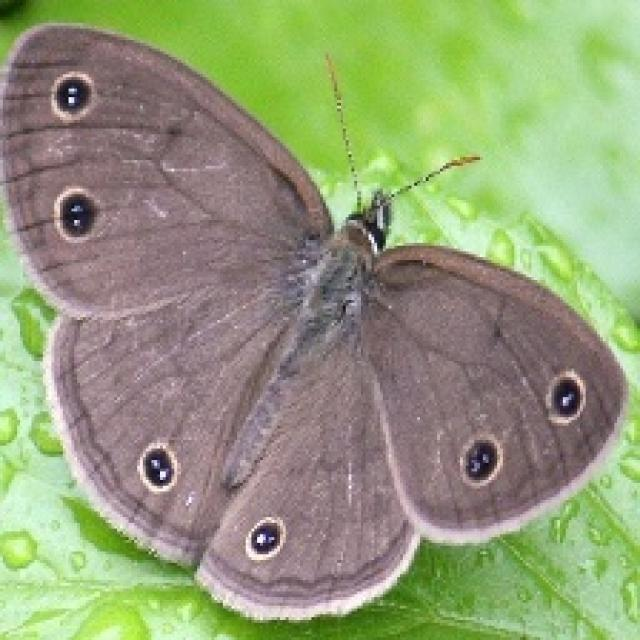butterfly: (0, 17, 629, 623)
